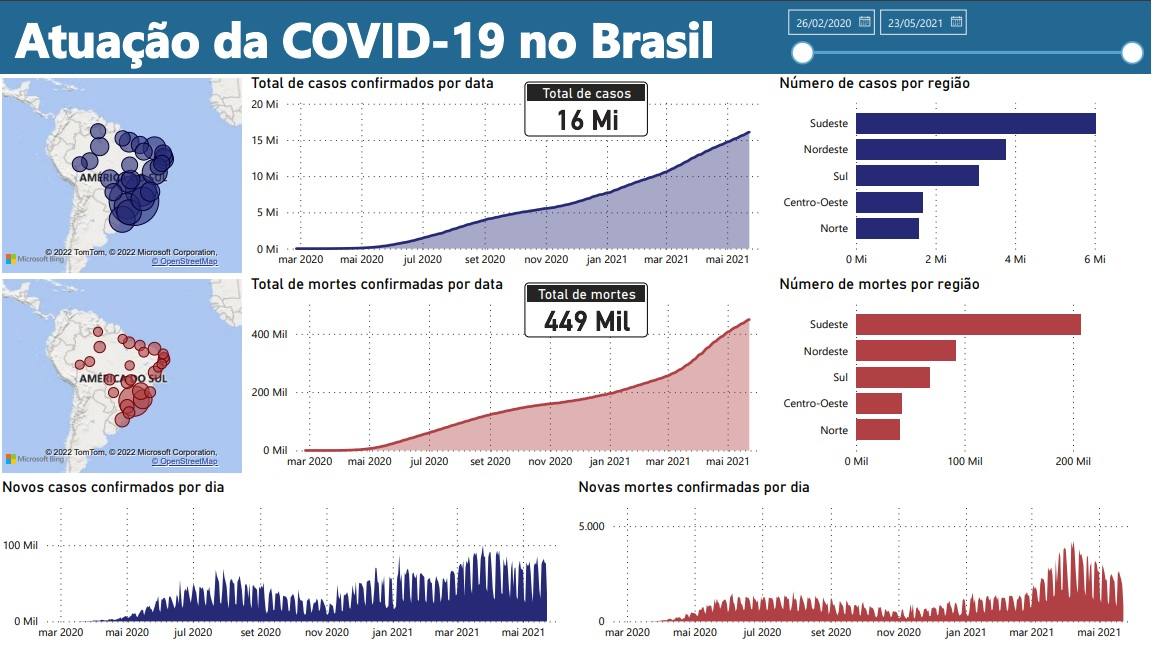

The dashboard page shown, as its layout file describes it:
{"tool":"powerbi","page":{"name":"Regiões","canvas":[1280,720],"ordinal":0},"visuals":[{"type":"textbox","box":[0,0,1280.2,80.6],"z":0},{"type":"areaChart","title":"Total de mortes confirmadas por data","fields":{"Category":["total_regiao.date"],"Y":["Sum(total_regiao.deaths)"]},"box":[276.2,305,587.5,225],"z":1000},{"type":"areaChart","title":"Total de casos confirmados por data","fields":{"Category":["total_regiao.date"],"Y":["Sum(total_regiao.cases)"]},"box":[276,82,588,224],"z":2000},{"type":"barChart","title":"Número de casos por região","fields":{"Y":["Max(total_regiao.cases)"],"Category":["total_regiao.region"]},"box":[863.8,81.2,416.2,223.8],"z":3000},{"type":"barChart","title":"Número de mortes por região","fields":{"Category":["total_regiao.region"],"Y":["Max(total_regiao.deaths)"]},"box":[863.8,305,416.2,225],"z":4000},{"type":"card","title":"Total de casos","fields":{"Values":["Max(total_data.cases)"]},"box":[585,90,137,61],"z":5000},{"type":"card","title":"Total de mortes","fields":{"Values":["Max(total_data.deaths)"]},"box":[585,313,137,61],"z":6000},{"type":"map","fields":{"Category":["total_state.state"],"Size":["Max(total_state.cases)"]},"box":[0,80.9,276.4,224.5],"z":7000},{"type":"map","fields":{"Category":["total_state.state"],"Size":["Max(total_state.deaths)"]},"box":[0,305,276.2,223.8],"z":8000},{"type":"areaChart","title":"Novos casos confirmados por dia","fields":{"Y":["Sum(total_novos.new_cases)"],"Category":["total_novos.date.Variation.Hierarquia de datas.Ano","total_novos.date.Variation.Hierarquia de datas.Mês","total_novos.date.Variation.Hierarquia de datas.Dia"]},"box":[0,530,640,190],"z":10000},{"type":"slicer","fields":{"Values":["total_data.date"]},"box":[864.3,0,415.7,81.4],"z":11000},{"type":"areaChart","title":"Novas mortes confirmadas por dia","fields":{"Y":["Max(total_novos.new_deaths)"],"Category":["total_novos.date.Variation.Hierarquia de datas.Ano","total_novos.date.Variation.Hierarquia de datas.Mês","total_novos.date.Variation.Hierarquia de datas.Dia"]},"box":[640,530,640,190],"z":12000}]}

Visuals, with their boxes in screenshot pixels (x1, y1, x2, y2), scaled from the page's 1280x720 canvas onto the 1152x649 screenshot:
textbox: bbox(0, 0, 1151, 73)
"Total de mortes confirmadas por data" areaChart: bbox(249, 275, 777, 478)
"Total de casos confirmados por data" areaChart: bbox(248, 74, 778, 276)
"Número de casos por região" barChart: bbox(777, 73, 1151, 275)
"Número de mortes por região" barChart: bbox(777, 275, 1151, 478)
"Total de casos" card: bbox(526, 81, 650, 136)
"Total de mortes" card: bbox(526, 282, 650, 337)
map - total_state.state x Max(total_state.cases): bbox(0, 73, 249, 275)
map - total_state.state x Max(total_state.deaths): bbox(0, 275, 249, 477)
"Novos casos confirmados por dia" areaChart: bbox(0, 478, 576, 648)
slicer - total_data.date: bbox(778, 0, 1151, 73)
"Novas mortes confirmadas por dia" areaChart: bbox(576, 478, 1151, 648)
